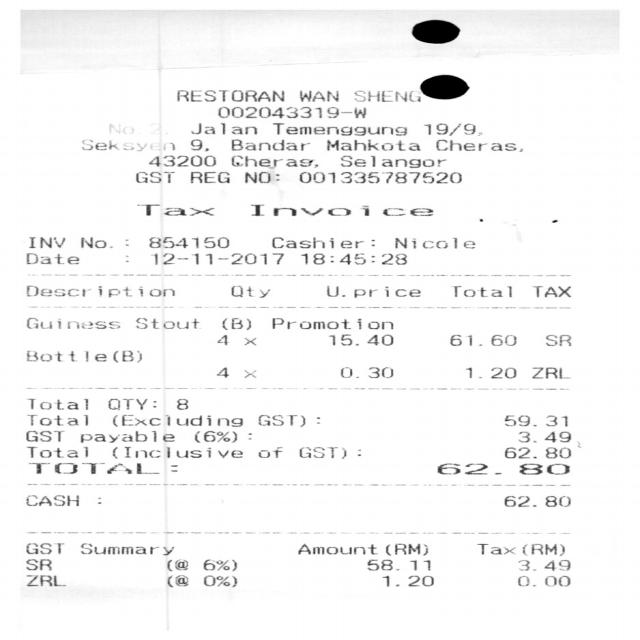text: (250, 204, 430, 215), (298, 171, 461, 183), (24, 284, 172, 297), (26, 462, 178, 474), (217, 106, 364, 118), (434, 462, 568, 474), (272, 123, 405, 135), (109, 445, 240, 457), (112, 414, 241, 426), (149, 253, 280, 264), (24, 350, 142, 362), (338, 154, 443, 167), (270, 317, 394, 328), (79, 429, 171, 442), (300, 253, 406, 264), (176, 90, 281, 101), (326, 285, 420, 297), (269, 236, 371, 247), (435, 138, 521, 151), (228, 154, 314, 167), (79, 543, 171, 555), (476, 543, 565, 555), (26, 317, 121, 328), (79, 140, 172, 151), (326, 140, 419, 150), (149, 235, 226, 247), (392, 236, 472, 247), (295, 543, 374, 554), (230, 138, 308, 149), (135, 204, 211, 215), (190, 122, 254, 134), (146, 154, 215, 165), (502, 446, 570, 457), (448, 285, 510, 297), (447, 334, 514, 345), (353, 90, 419, 101), (134, 317, 198, 328), (328, 334, 392, 345), (501, 496, 570, 506), (193, 430, 250, 442), (255, 415, 317, 426), (504, 415, 566, 426), (24, 445, 86, 456), (296, 446, 358, 457), (423, 123, 479, 135), (25, 398, 86, 409), (25, 414, 86, 425), (340, 366, 393, 378), (364, 559, 427, 569), (515, 431, 569, 442), (25, 253, 78, 264), (107, 398, 155, 410), (465, 367, 515, 378), (517, 574, 567, 585), (382, 574, 432, 585), (79, 236, 128, 247), (529, 284, 570, 297), (229, 285, 270, 298), (26, 494, 78, 504), (517, 560, 567, 570), (383, 543, 424, 555), (23, 542, 61, 554), (25, 574, 64, 585), (134, 171, 172, 182), (244, 171, 278, 183), (299, 90, 336, 101), (28, 236, 64, 247), (530, 367, 566, 378), (190, 172, 227, 182), (23, 430, 60, 440), (222, 316, 250, 329), (202, 559, 235, 570), (203, 574, 236, 585), (543, 334, 570, 345), (105, 122, 132, 132), (166, 574, 187, 586), (26, 559, 50, 569), (164, 559, 184, 571), (258, 446, 280, 456), (190, 138, 207, 150), (149, 123, 167, 134), (174, 398, 187, 409), (215, 367, 228, 376), (242, 336, 255, 344), (242, 370, 255, 377), (216, 334, 225, 344)
